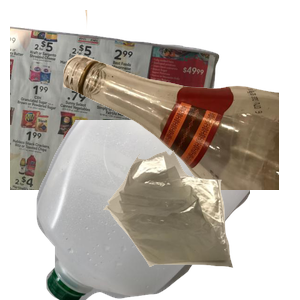glass: (60, 10, 300, 190)
paper: (10, 21, 222, 201)
plastic: (34, 120, 274, 300)
trash: (101, 148, 300, 300)
